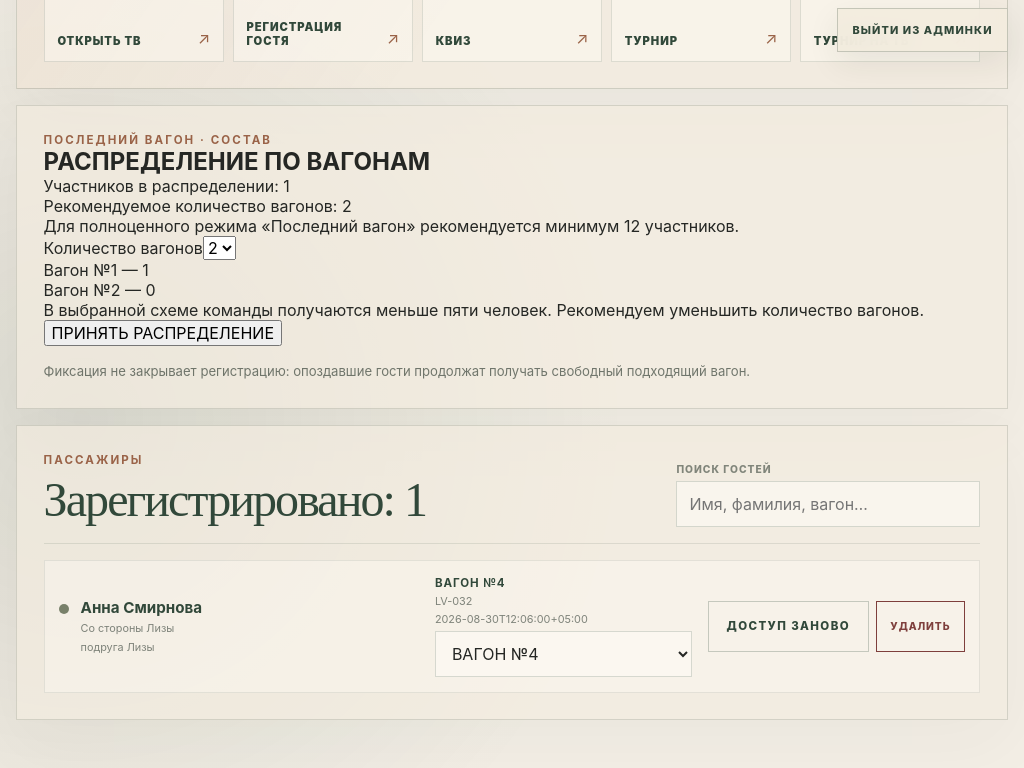
AdminPage › passes the protected recovery-code action through to the owner shell
(page scrolled)
expect the heading "Анна Смирнова" is shown: met, box left=81, top=598, right=202, bottom=617
Click the button with aria-label "ВЫДАТЬ ДОСТУП ЗАНОВО Анна Смирнова".
click(788, 626)  # box left=708, top=601, right=869, bottom=652
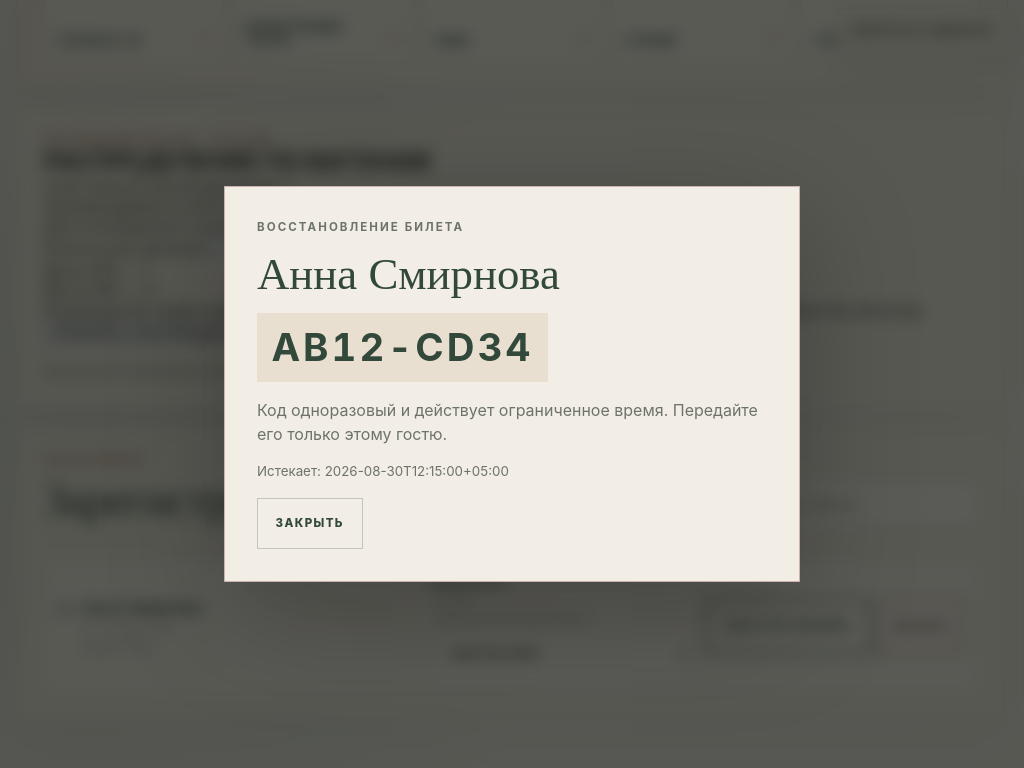
expect the text "AB12-CD34" is shown: met, box left=257, top=313, right=548, bottom=382
